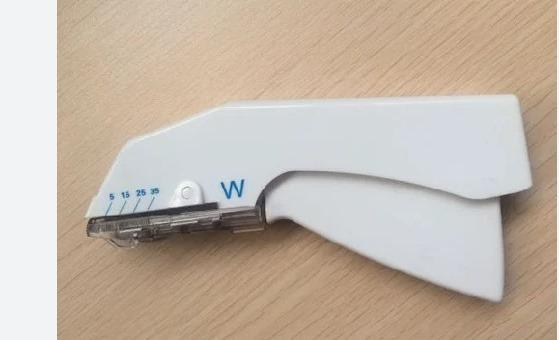Skin Stapler: (79, 89, 538, 311)
